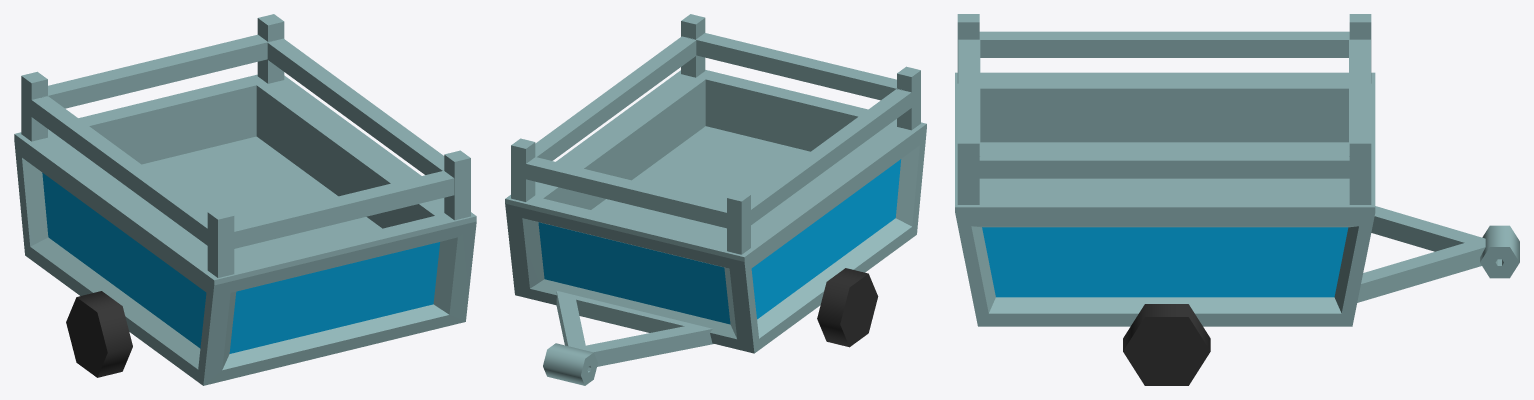
The model's file is Cart_1.FBX.
3 renders of one model, left to right at view 1: azimuth 30°, elevation 25°; view 2: azimuth 150°, elevation 25°; view 3: azimuth 270°, elevation 25°, orthographic. The views are drawn at different scales.
Parts seen in each view (by area): view 1: Cart_1; view 2: Cart_1; view 3: Cart_1.
Boxes of the visible parts, x1,y1,x2,y2 form: Cart_1: (14,14,476,385); Cart_1: (505,14,926,385); Cart_1: (955,14,1519,385).
Size of the model in its own units: 2.99 by 1.96 by 4.42.
Materials: 1 (1 with a texture image).
